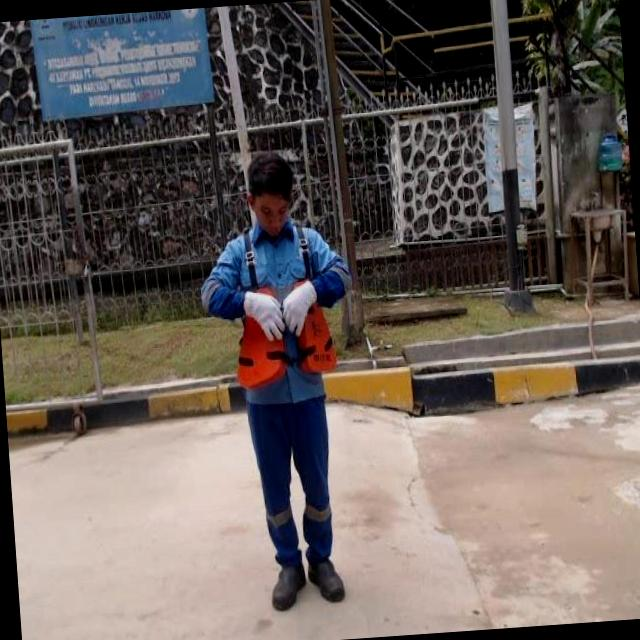boots: (305, 549, 355, 610), (268, 554, 310, 616)
gloves: (270, 263, 344, 346), (230, 276, 294, 352)
no-helmet: (226, 150, 314, 256)
vest: (210, 222, 346, 396)
